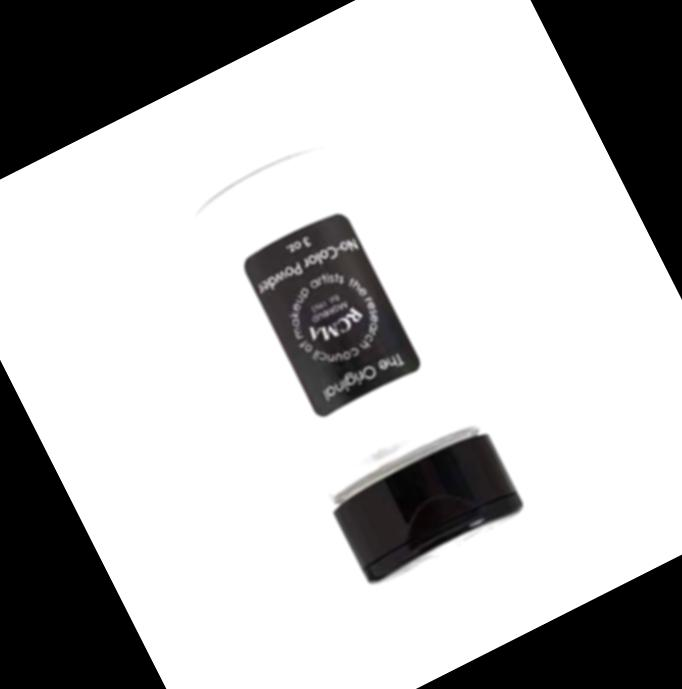cosmetic: (174, 132, 533, 593)
